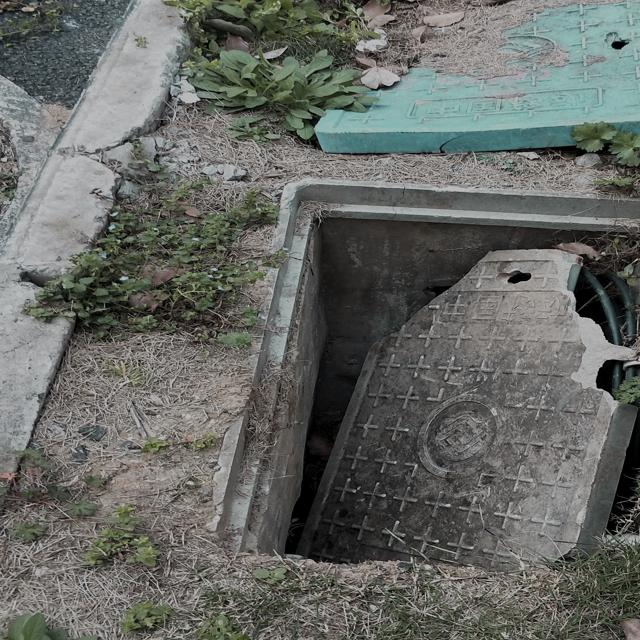broke: (185, 173, 640, 566)
